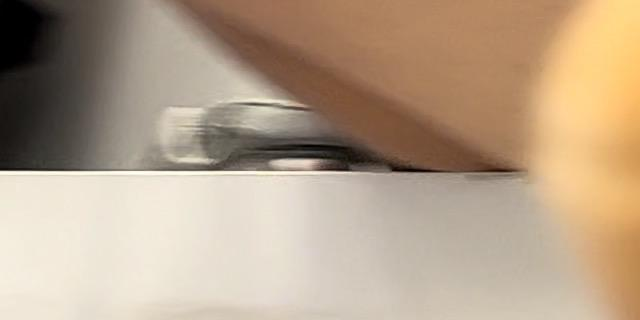burger: (489, 0, 640, 320)
